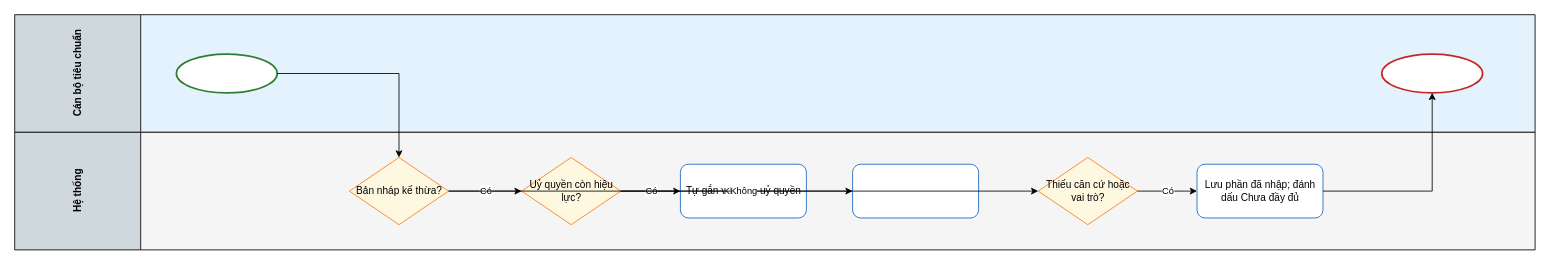
This 1550x265 diagram has some shape labels left out. The shapes that lost their labels are listed below. From the top down, each one's centre as x and y in pixels, then its label:
pixel 226 73: Mở thẻ / nhấn Lưu
pixel 1432 73: Bổ sung sau
pixel 915 190: Báo uỷ quyền hết hiệu lực; chặn trình
